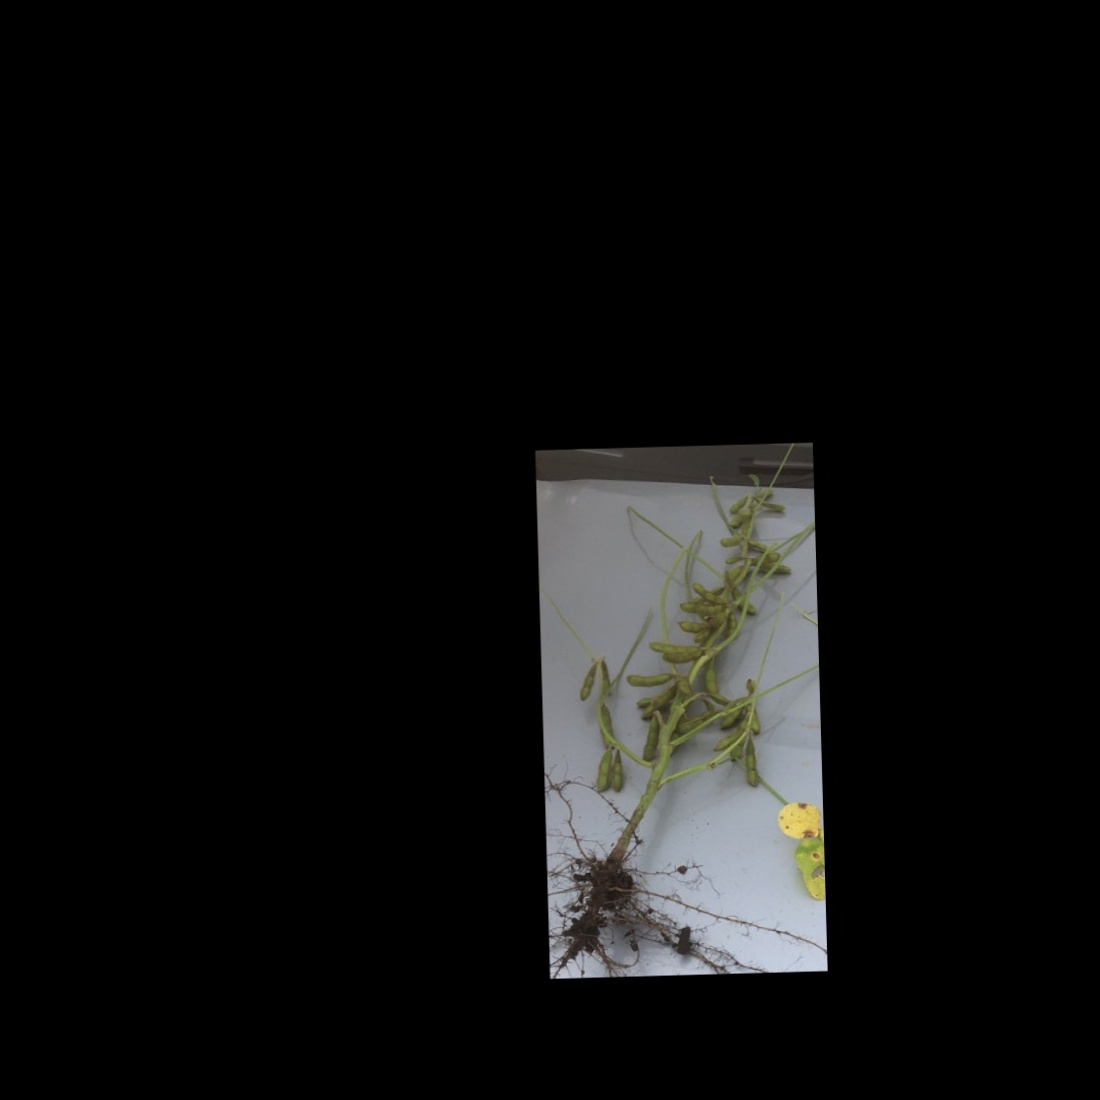pod: (637, 715, 661, 763), (571, 664, 597, 707), (624, 668, 674, 690), (591, 746, 613, 794), (742, 739, 761, 788), (610, 747, 626, 794), (706, 654, 721, 694), (717, 532, 745, 550), (725, 493, 747, 514), (676, 620, 710, 633), (723, 551, 748, 564)
soy: (560, 467, 809, 954)
